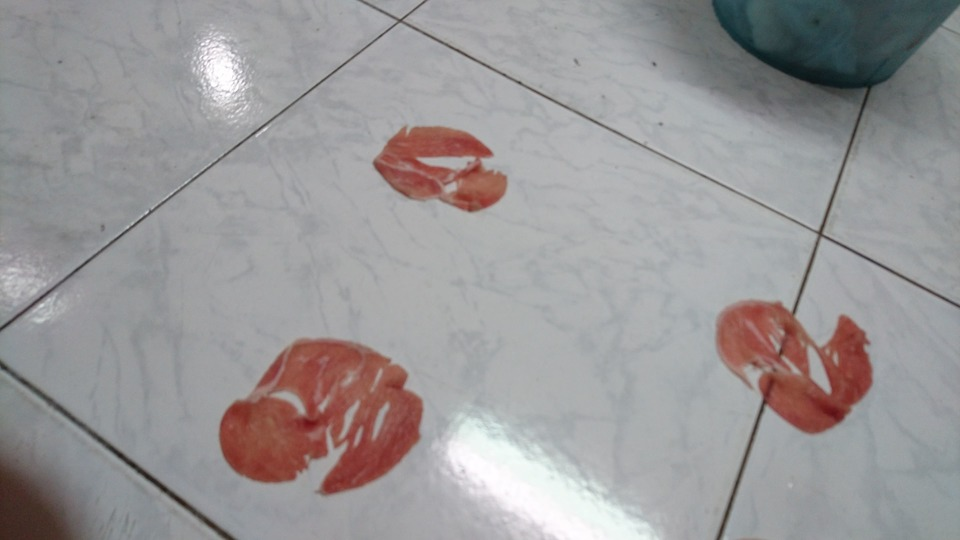restructured meat: (219, 328, 427, 498), (696, 299, 880, 437), (375, 120, 508, 220)
